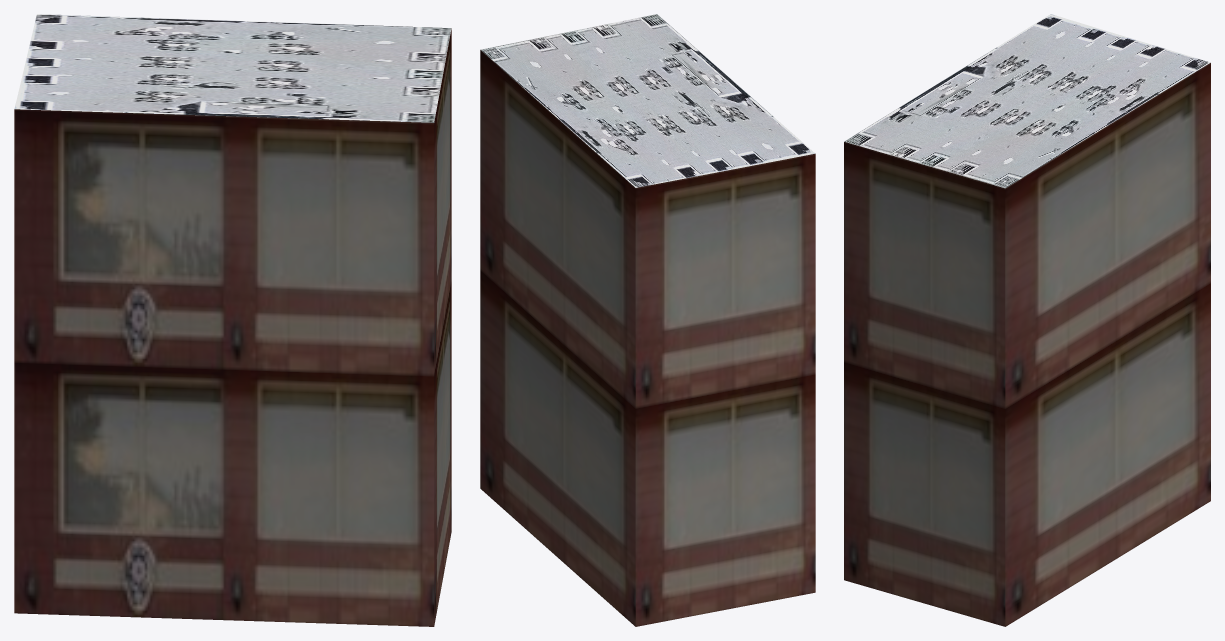
File: ResTex__3655.fbx
3 views of the same model, side by side, from view 1: azimuth 30°, elevation 25°; view 2: azimuth 150°, elevation 25°; view 3: azimuth 270°, elevation 25° (orthographic). The views are drawn at different scales.
Parts seen in each view (by area): view 1: CityEngineMaterial_13_m, CityEngineMaterial_2_m; view 2: CityEngineMaterial_13_m, CityEngineMaterial_2_m; view 3: CityEngineMaterial_13_m, CityEngineMaterial_2_m.
Boxes of the visible parts, x1,y1,x2,y2 form: CityEngineMaterial_13_m: [14, 28, 451, 626]; CityEngineMaterial_2_m: [14, 14, 451, 122]; CityEngineMaterial_13_m: [480, 50, 815, 626]; CityEngineMaterial_2_m: [481, 14, 814, 187]; CityEngineMaterial_13_m: [844, 63, 1210, 626]; CityEngineMaterial_2_m: [844, 14, 1210, 188].
Size of the model in its own units: 5.12 by 6 by 4.55.
Materials: 2 (2 with a texture image).
